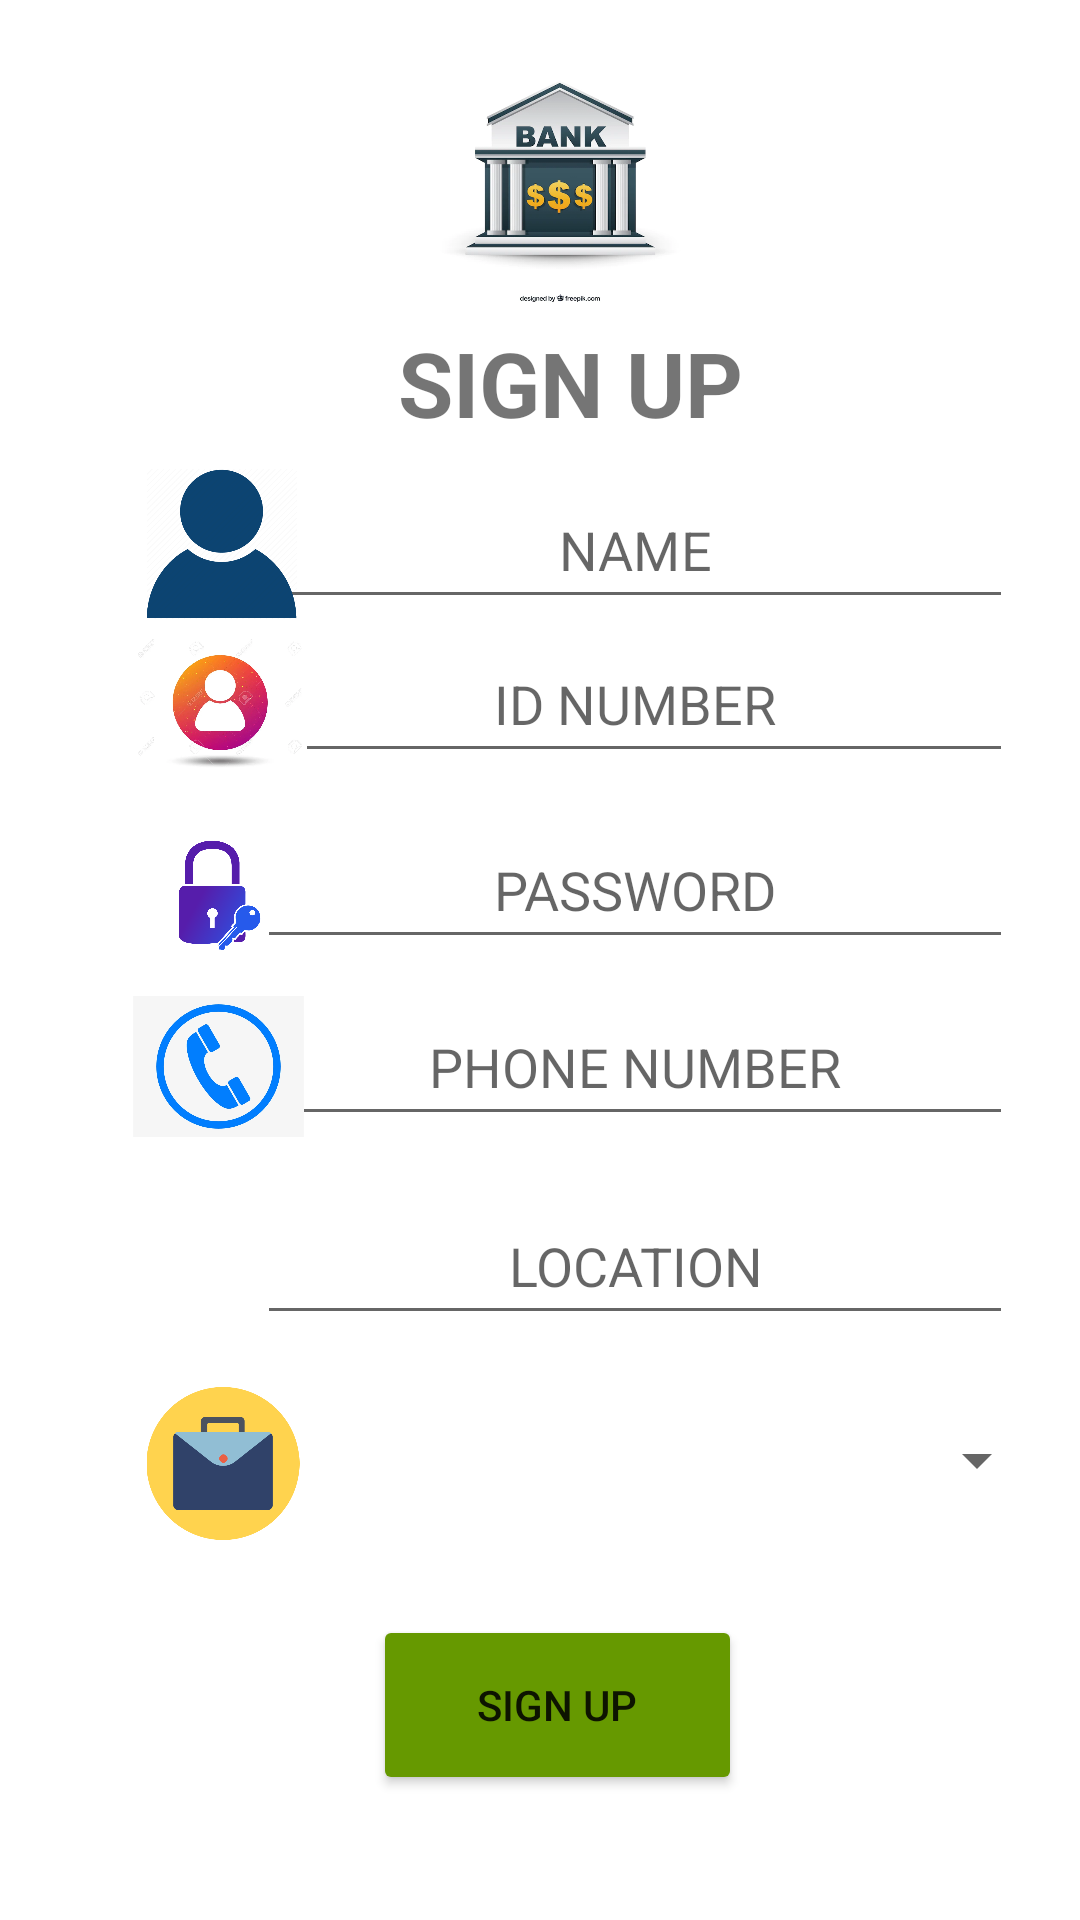

Where icons sit on this 1080 × 1920 app screen, as (x1, y1, x2, y2):
job: (147, 1387, 300, 1540)
